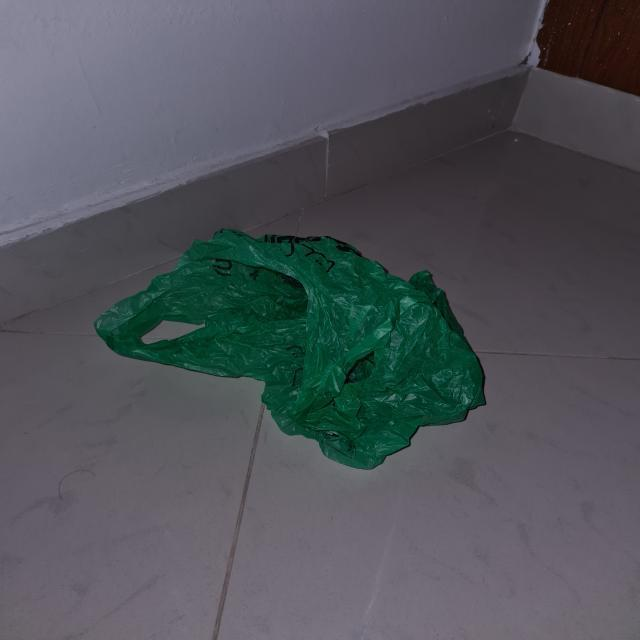plastic: (93, 227, 485, 465)
